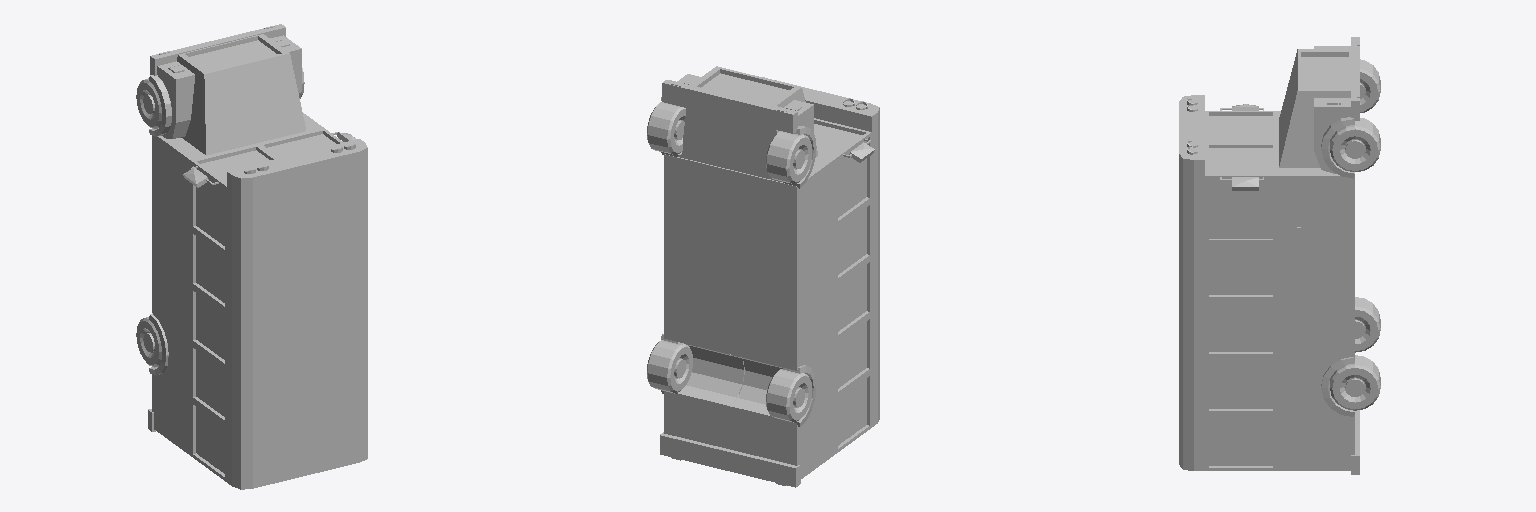
File: bus.obj
3 renders of one model, left to right at view 1: azimuth 30°, elevation 25°; view 2: azimuth 150°, elevation 25°; view 3: azimuth 270°, elevation 25°, orthographic.
Parts seen in each view (by area): view 1: G_Bus, G_Bus_FWheelL, G_Bus_BWheelL; view 2: G_Bus, G_Bus_BWheelR, G_Bus_FWheelL, G_Bus_BWheelL, G_Bus_FWheelR; view 3: G_Bus, G_Bus_BWheelR, G_Bus_FWheelR, G_Bus_BWheelL, G_Bus_FWheelL.
Part boxes in pixels (left/top/right/bottom): G_Bus: left=148, top=24, right=367, bottom=489; G_Bus_FWheelL: left=136, top=78, right=161, bottom=128; G_Bus_BWheelL: left=136, top=317, right=161, bottom=367; G_Bus: left=660, top=66, right=879, bottom=487; G_Bus_BWheelR: left=647, top=340, right=692, bottom=393; G_Bus_FWheelL: left=766, top=131, right=811, bottom=183; G_Bus_BWheelL: left=766, top=369, right=811, bottom=422; G_Bus_FWheelR: left=647, top=102, right=685, bottom=154; G_Bus: left=1179, top=37, right=1359, bottom=474; G_Bus_BWheelR: left=1330, top=355, right=1380, bottom=410; G_Bus_FWheelR: left=1330, top=118, right=1380, bottom=171; G_Bus_BWheelL: left=1355, top=297, right=1380, bottom=352; G_Bus_FWheelL: left=1360, top=59, right=1380, bottom=112.
Bounding box in the file's own units: 2.03 × 4.36 × 2.13.